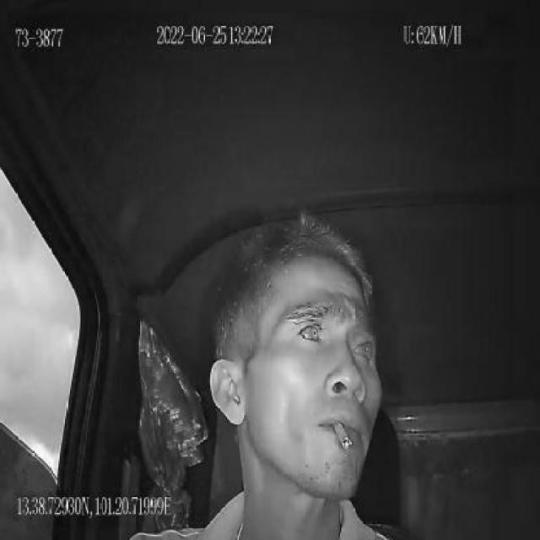smoking: (332, 422, 352, 453)
